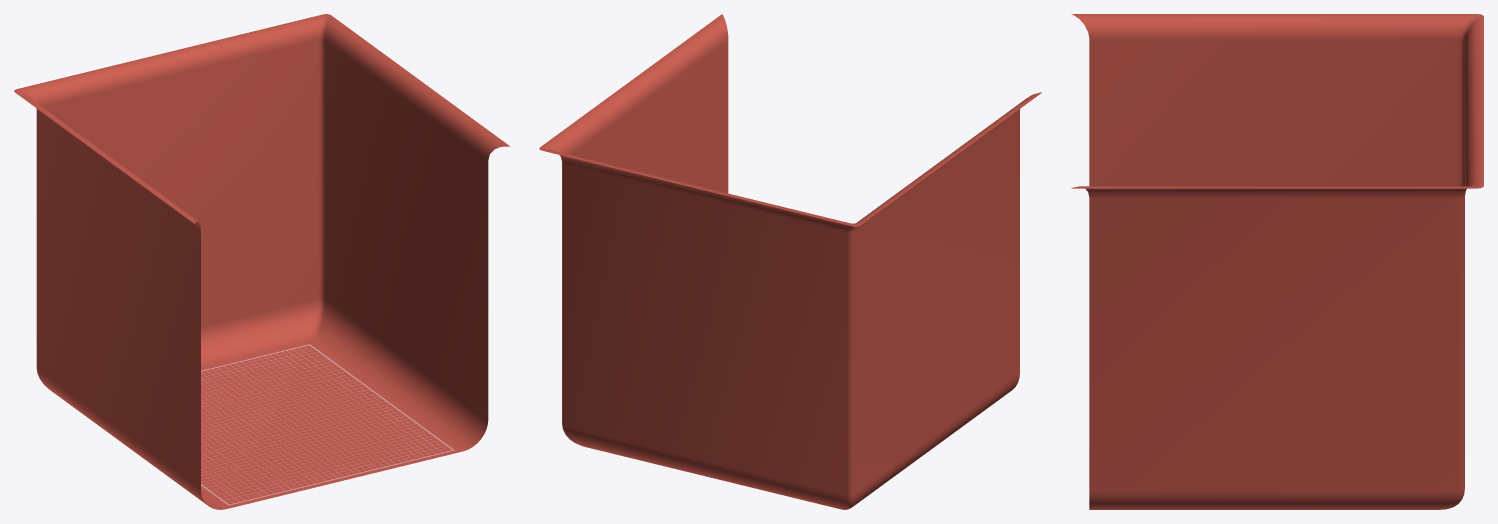
The model's file is Creation Map.fbx.
3 views of the same model, side by side, from view 1: azimuth 30°, elevation 25°; view 2: azimuth 150°, elevation 25°; view 3: azimuth 270°, elevation 25° (orthographic). The views are drawn at different scales.
Parts seen in each view (by area): view 1: Plane; view 2: Plane; view 3: Plane.
Part boxes in pixels (x1,y1,x2,y2): Plane: (14,14,510,509); Plane: (539,14,1041,509); Plane: (1071,14,1483,509).
Bounding box in the file's own units: 2200 × 2000 × 2200.
